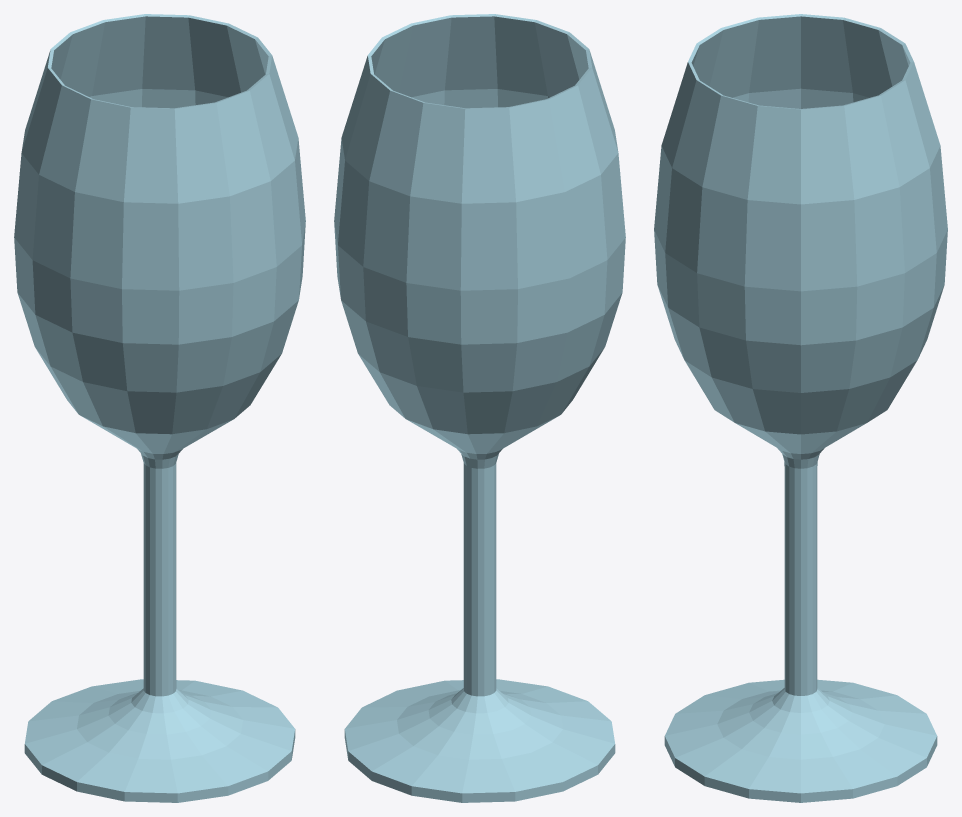
File: Copa03.fbx
The picture shows the model from 3 angles, left to right: view 1: azimuth 30°, elevation 25°; view 2: azimuth 150°, elevation 25°; view 3: azimuth 270°, elevation 25°; orthographic projection.
Parts seen in each view (by area): view 1: Copa03; view 2: Copa03; view 3: Copa03.
Boxes of the visible parts, bbox=[...] form: Copa03: bbox=[14, 14, 305, 802]; Copa03: bbox=[334, 14, 625, 802]; Copa03: bbox=[654, 14, 947, 802].
Bounding box in the file's own units: 7.87 × 20.19 × 7.87.
